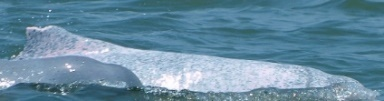fin: (17, 15, 362, 95)
